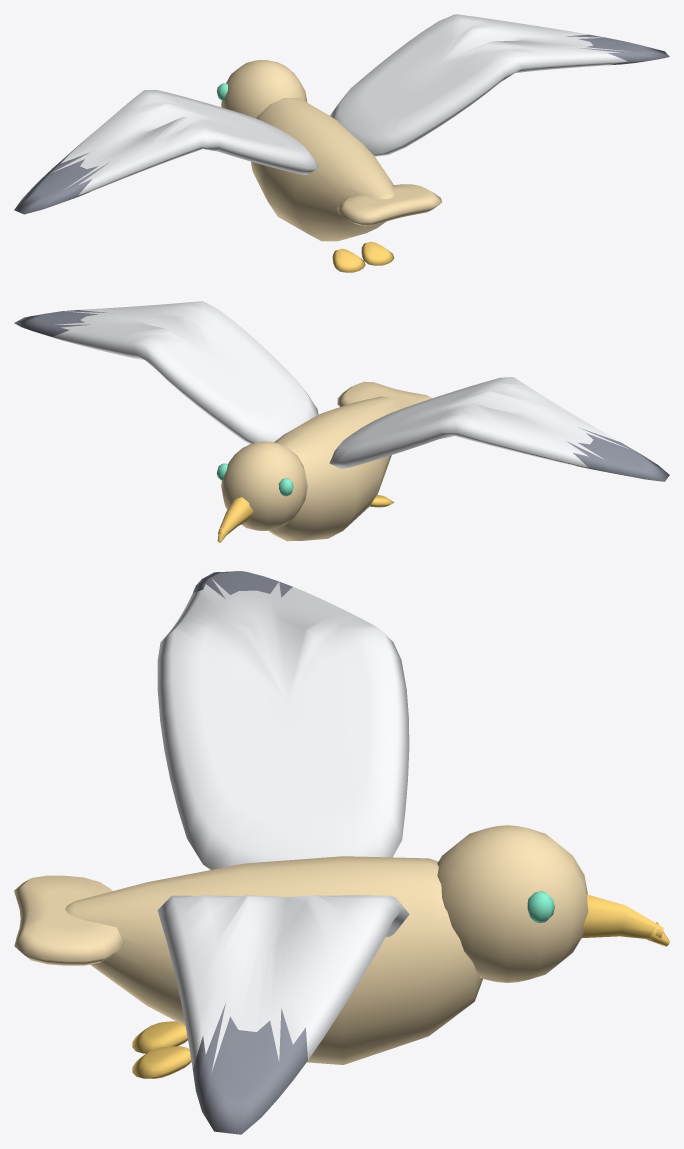
Rendered from SharkBaitGull.glb.
3 renders of one model, top to bottom at view 1: azimuth 30°, elevation 25°; view 2: azimuth 150°, elevation 25°; view 3: azimuth 270°, elevation 25°, orthographic. The views are drawn at different scales.
Parts seen in each view (by area): view 1: Wings, Body, WingTips, Beak; view 2: Wings, Body, WingTips, Beak; view 3: Wings, Body, WingTips, Beak.
Boxes of the visible parts, box(x1,y1,x2,y2) form: Wings: box(53, 14, 629, 195); Body: box(221, 60, 442, 241); WingTips: box(14, 34, 669, 214); Beak: box(332, 241, 394, 272); Wings: box(52, 301, 629, 468); Body: box(221, 381, 431, 541); WingTips: box(14, 310, 669, 481); Beak: box(217, 494, 394, 542); Wings: box(157, 579, 409, 1072); Body: box(14, 825, 588, 1064); WingTips: box(192, 571, 307, 1134); Beak: box(132, 894, 669, 1078).
Bounding box in the file's own units: 4.07 × 1 × 2.
